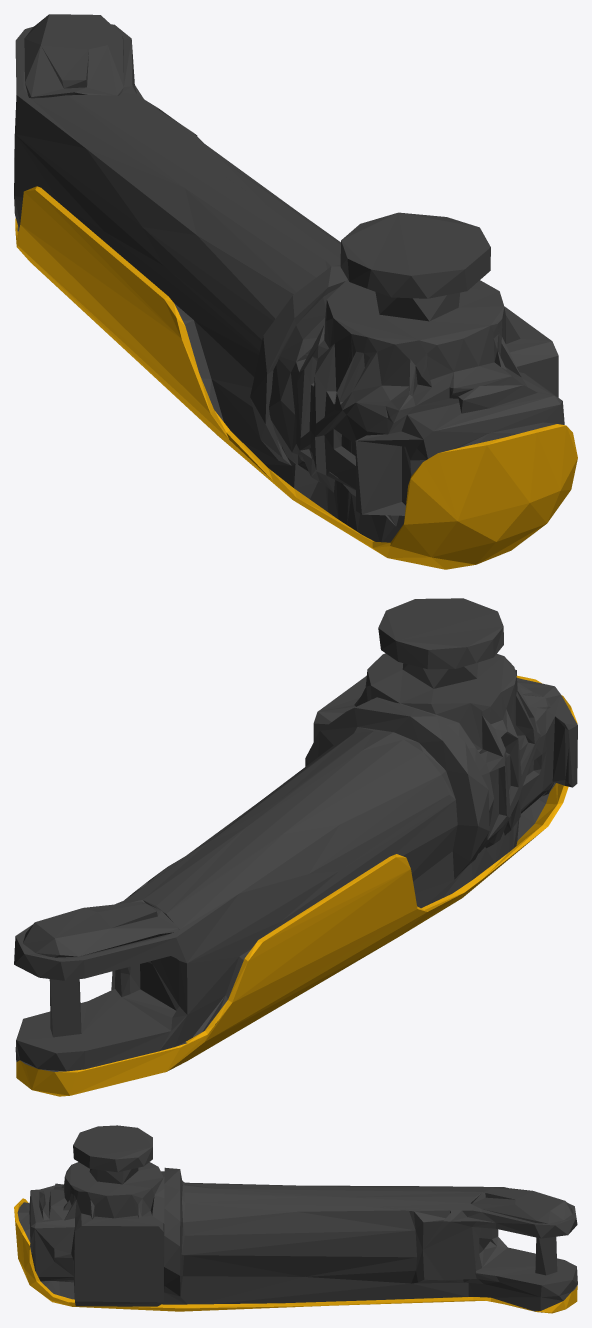
The model's file is rear_right_upper_leg_compressed.dae.
3 renders of one model, top to bottom at view 1: azimuth 30°, elevation 25°; view 2: azimuth 150°, elevation 25°; view 3: azimuth 270°, elevation 25°, orthographic. The views are drawn at different scales.
Visible parts, largest first — view 1: node; view 2: node; view 3: node.
Part boxes in pixels (left/top/right/bottom): node: left=14, top=14, right=577, bottom=569; node: left=14, top=598, right=577, bottom=1096; node: left=14, top=1125, right=577, bottom=1313.
Size of the model in its own units: 0.1021 by 0.1318 by 0.4183.
1 material, 1 textured.
